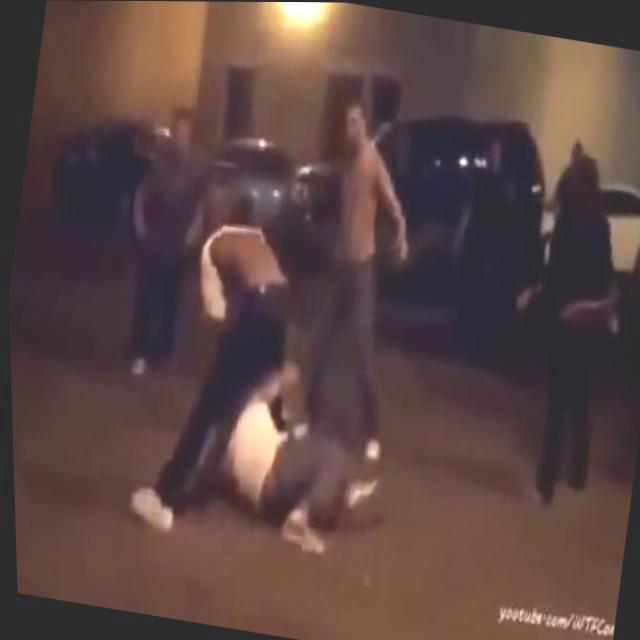fight: (116, 194, 419, 576)
